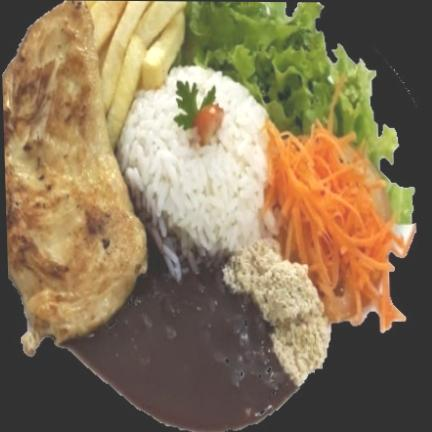beans: (64, 176, 298, 431)
carrot: (265, 119, 411, 332)
chicken: (2, 1, 146, 361)
potato: (88, 1, 184, 153)
rice: (113, 66, 267, 252)
salad: (174, 1, 415, 224)
tomato: (194, 106, 222, 141)
